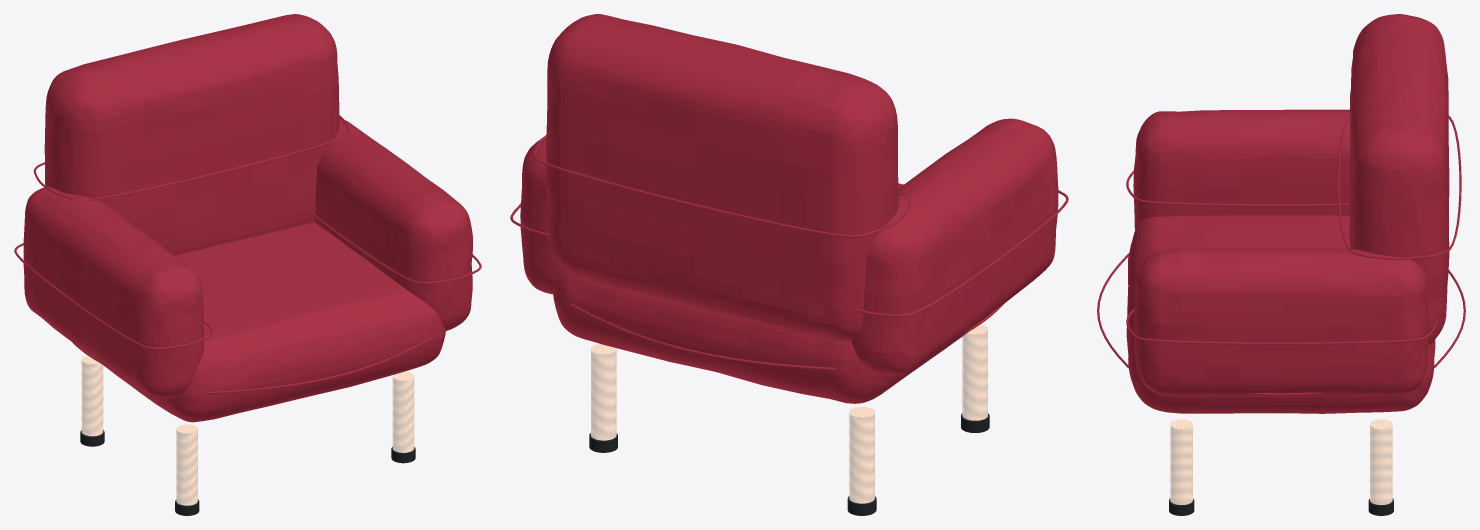
File: ref06_02.glb
3 views of the same model, side by side, from view 1: azimuth 30°, elevation 25°; view 2: azimuth 150°, elevation 25°; view 3: azimuth 270°, elevation 25° (orthographic). The views are drawn at different scales.
Visible parts, largest first — view 1: ref06_02; view 2: ref06_02; view 3: ref06_02.
Boxes of the visible parts, box(x1,y1,x2,y2) form: ref06_02: box(14, 14, 481, 515); ref06_02: box(510, 14, 1068, 515); ref06_02: box(1097, 14, 1465, 515).
Size of the model in its own units: 0.9449 by 0.9341 by 0.8127.
Materials: 3 (1 with a texture image).
